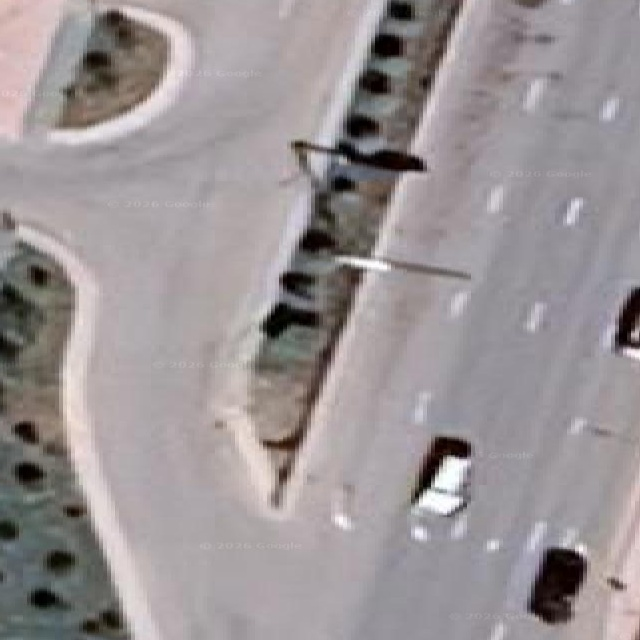car: (411, 436, 471, 515), (528, 548, 586, 623), (613, 288, 640, 360)
